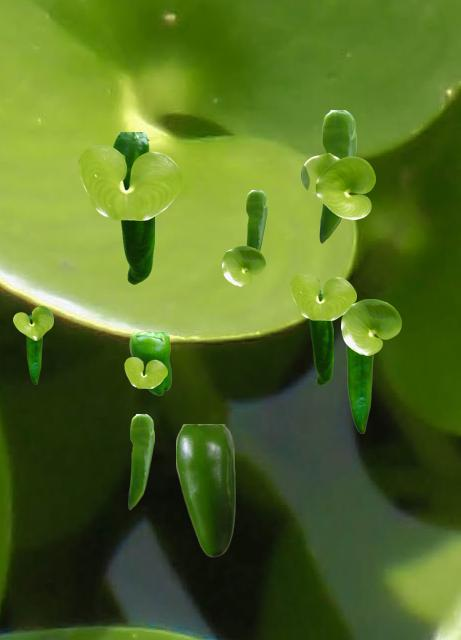green_chili: (176, 424, 234, 556), (112, 132, 153, 283), (319, 110, 355, 242), (129, 332, 170, 394), (128, 414, 153, 508), (346, 345, 372, 432), (308, 290, 332, 384), (245, 190, 266, 250), (26, 315, 41, 383)
